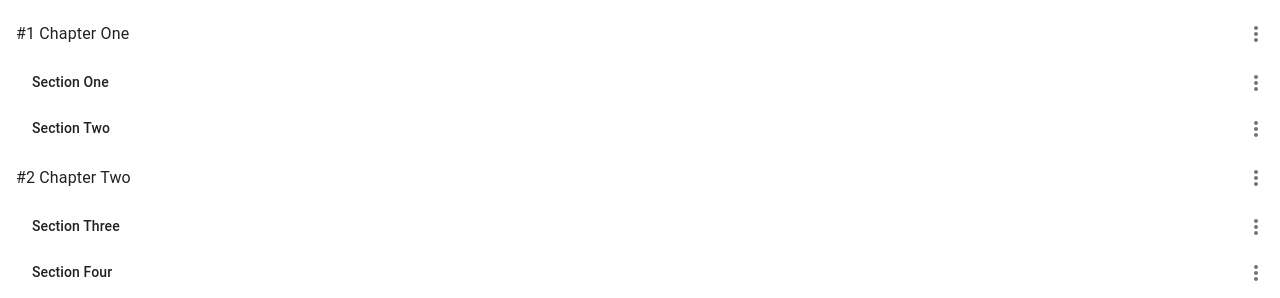
should show chapters
expect the heading "#1 Chapter One" is shown: met, box [16,24,129,43]
expect the heading "Section One" is shown: met, box [32,74,109,90]
Click the button named "chapter menu" in the row of "#1 Chapter One".
click(1256, 34)  # box [1236,14,1276,54]
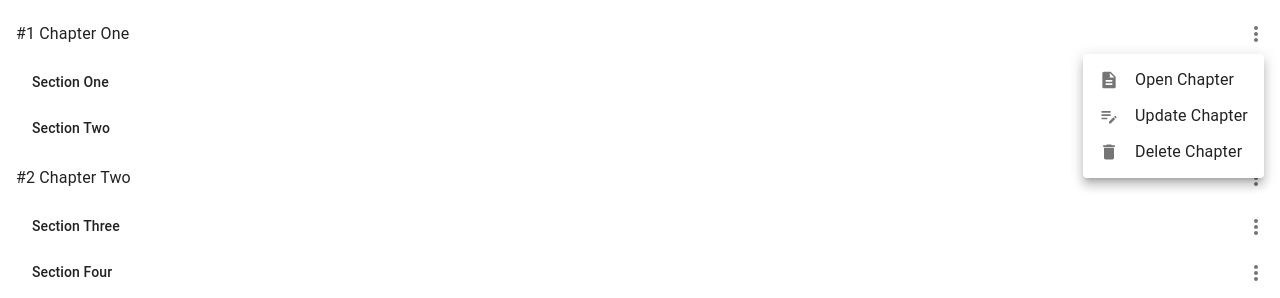
expect the text "Open Chapter" is shown: met, box [1135,68,1248,92]
expect the text "Update Chapter" is shown: met, box [1135,104,1248,128]
